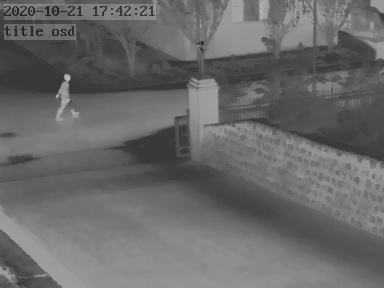person: (55, 72, 79, 122)
